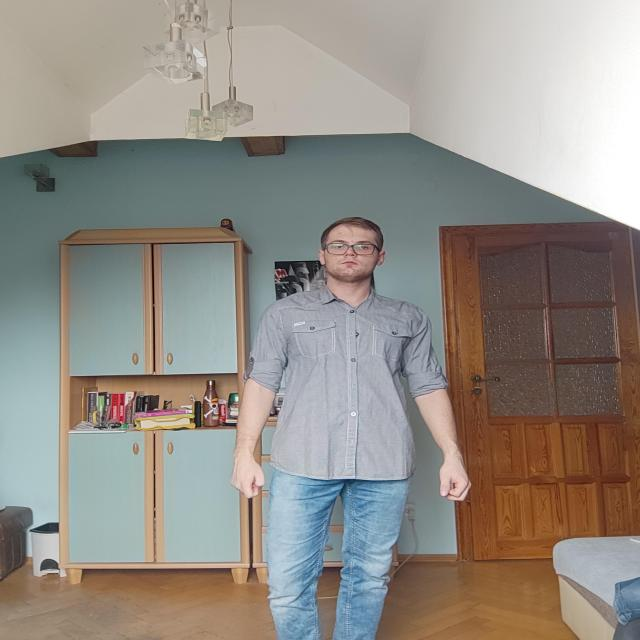pants: (266, 451, 410, 640)
shirt: (243, 279, 448, 481)
